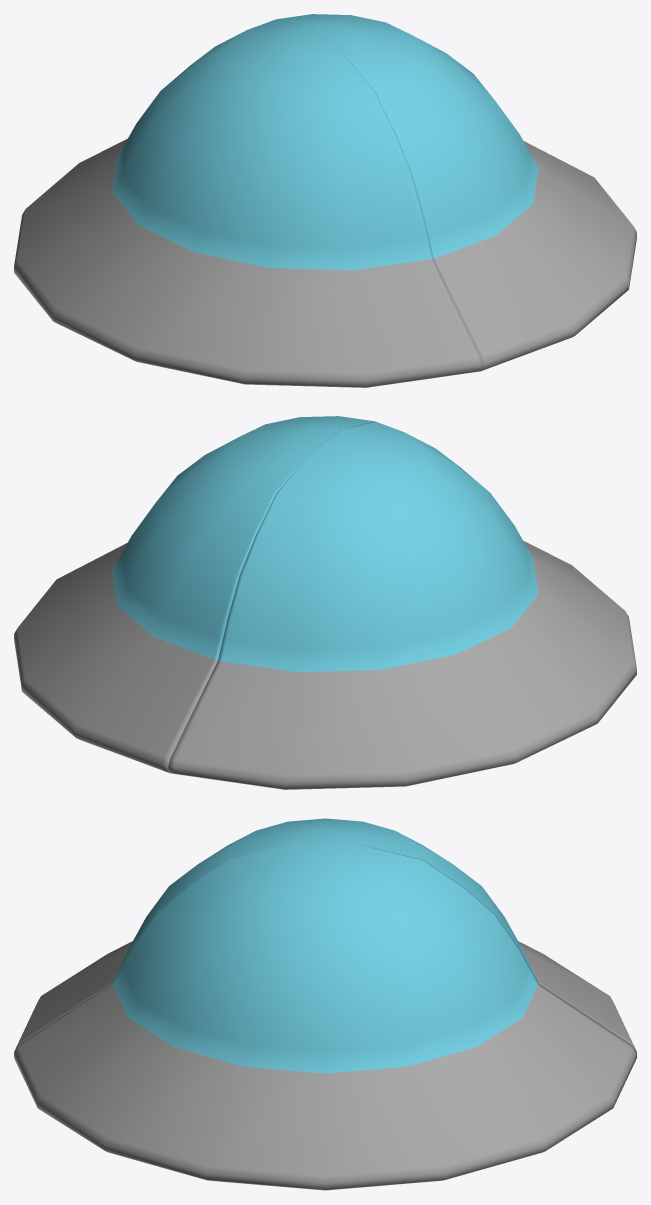
Rendered from SM_Ufo_01a.fbx.
3 views of the same model, one above another, from view 1: azimuth 30°, elevation 25°; view 2: azimuth 150°, elevation 25°; view 3: azimuth 270°, elevation 25° (orthographic).
Visible parts, largest first — view 1: Ufo_01, Ufo_01.001; view 2: Ufo_01, Ufo_01.001; view 3: Ufo_01.001, Ufo_01.
Boxes of the visible parts, x1=… form: Ufo_01: x1=14, y1=19, x2=482, y2=387; Ufo_01.001: x1=277, y1=14, x2=636, y2=370; Ufo_01: x1=168, y1=421, x2=636, y2=789; Ufo_01.001: x1=14, y1=416, x2=373, y2=772; Ufo_01.001: x1=14, y1=844, x2=636, y2=1190; Ufo_01: x1=15, y1=818, x2=635, y2=1049.
Bounding box in the file's own units: 52.34 × 27.82 × 52.34.
